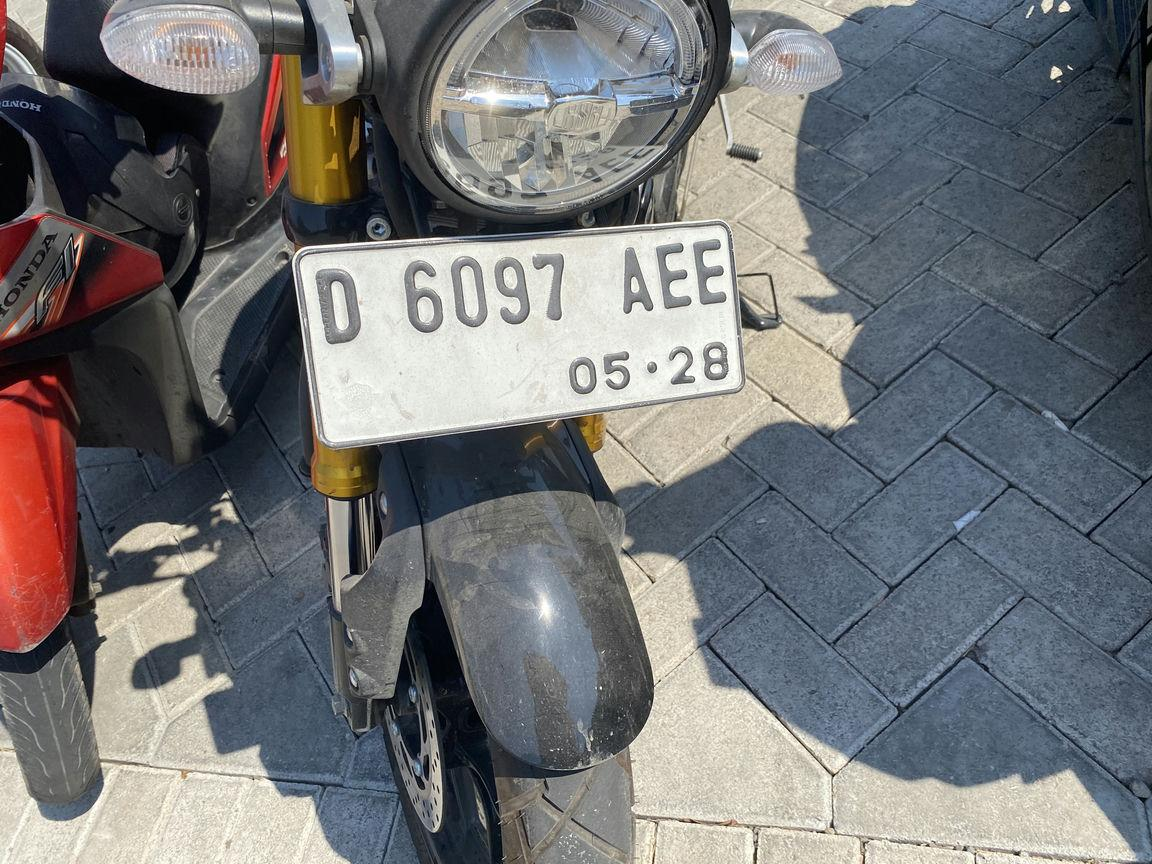plat: (292, 220, 745, 448)
